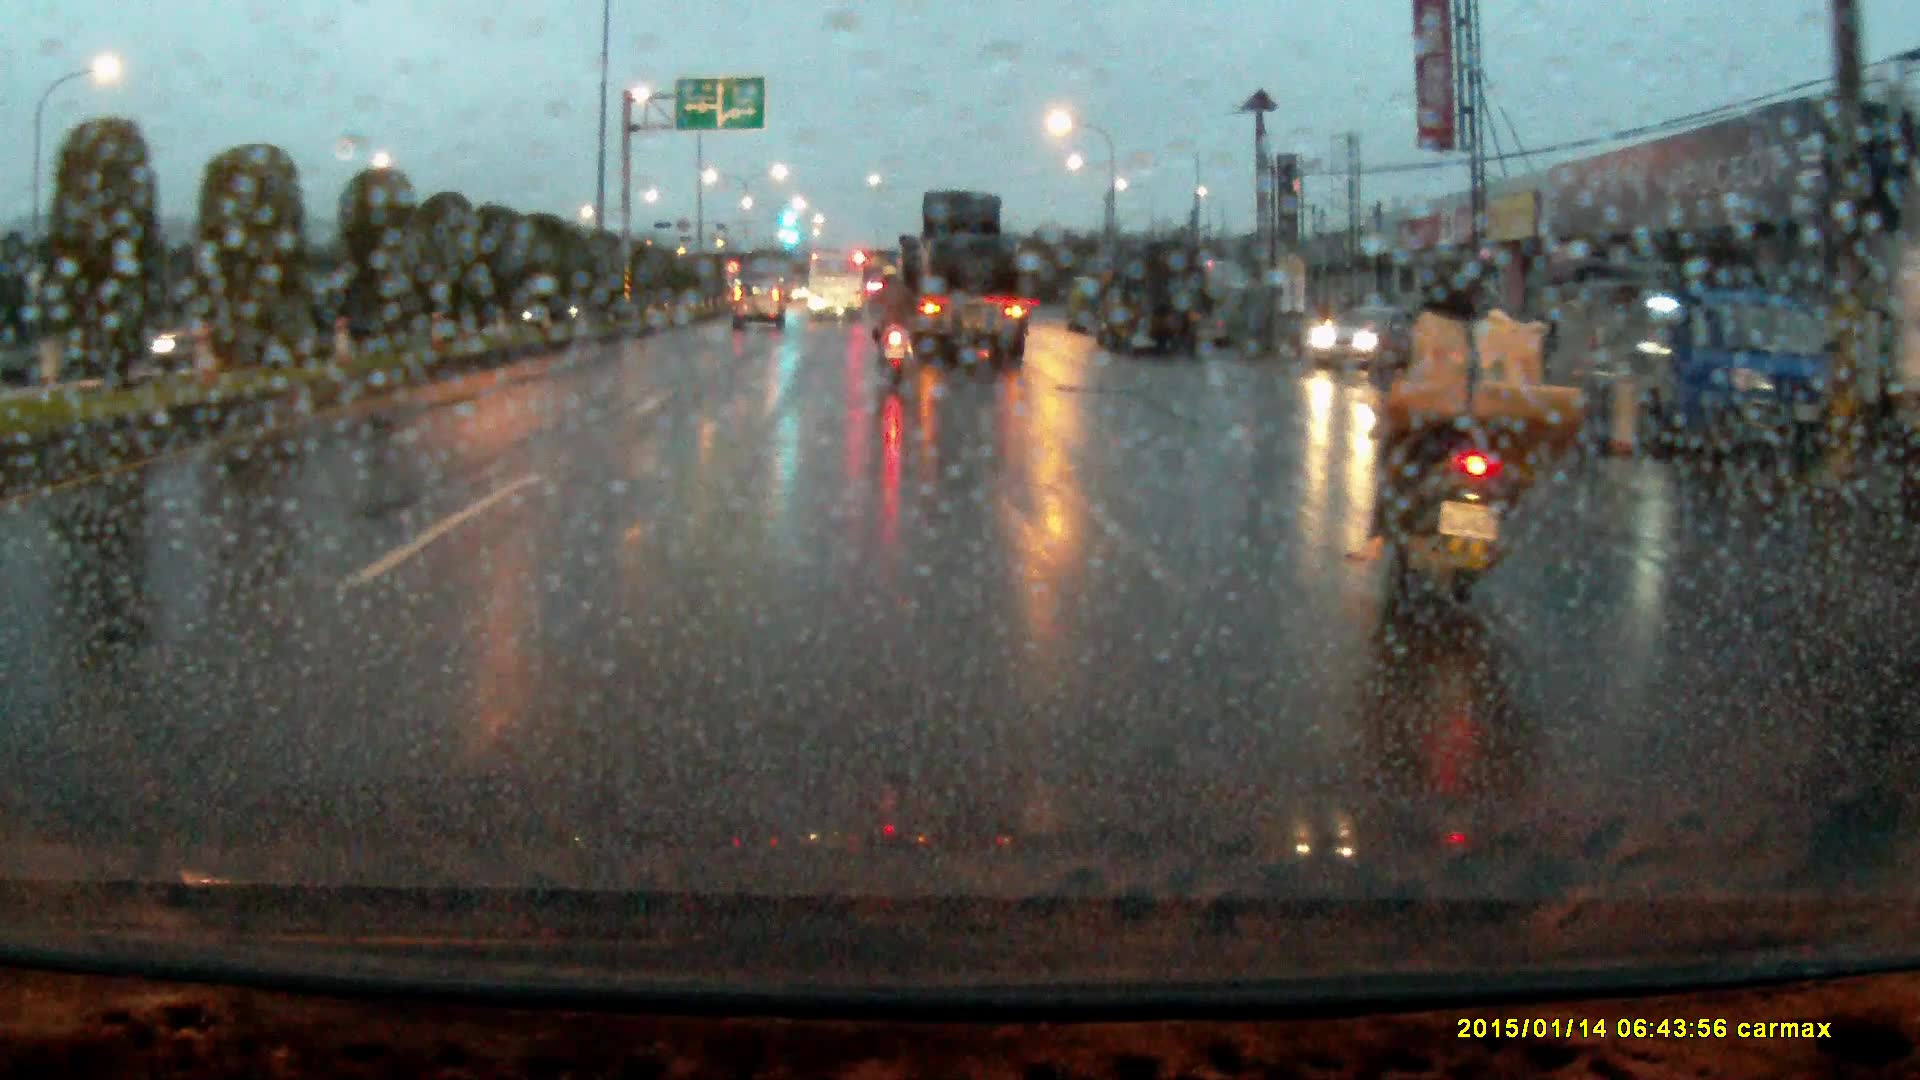rider: (1359, 251, 1595, 658), (869, 265, 923, 383)
vehicle: (1582, 286, 1830, 462), (885, 197, 1024, 372), (1104, 250, 1213, 366), (1307, 309, 1411, 372), (807, 253, 865, 328), (1065, 279, 1115, 338), (733, 288, 788, 338)
